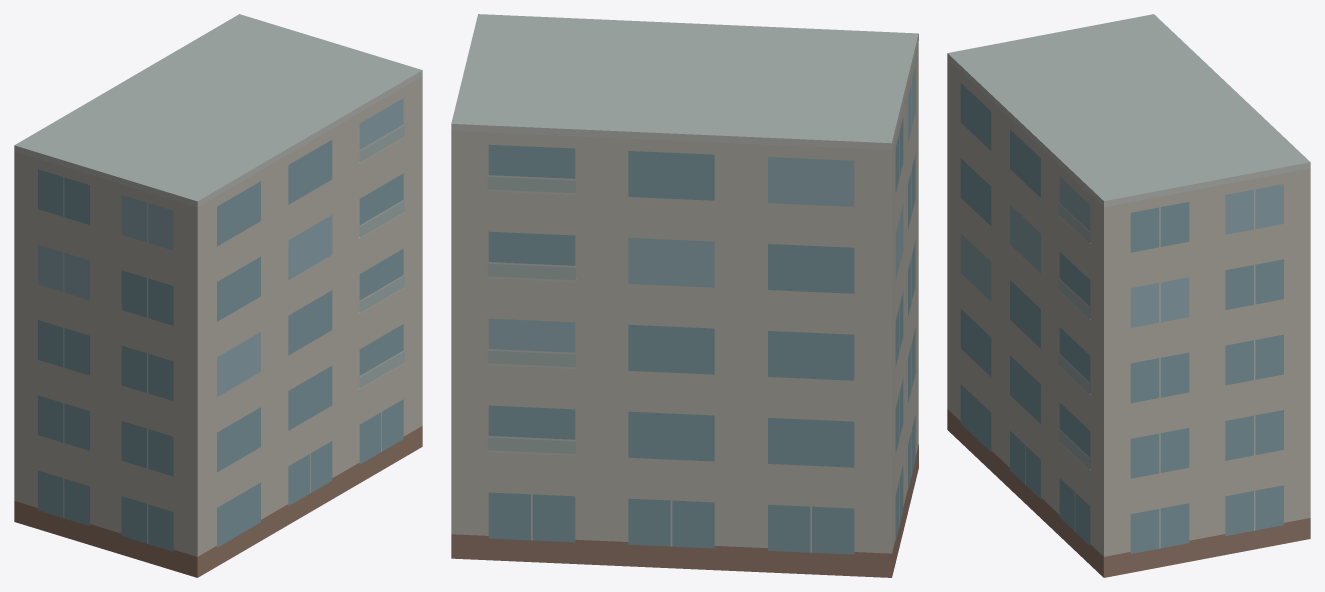
Rendered from residential-d1fae9f7-9495-41e3-9921-db0c4ef6ad68.glb.
3 renders of one model, left to right at view 1: azimuth 30°, elevation 25°; view 2: azimuth 150°, elevation 25°; view 3: azimuth 270°, elevation 25°, orthographic. The views are drawn at different scales.
Parts seen in each view (by area): view 1: residential-d1fae9f7-9495-41e3-9921-db0c4ef6ad68.tmp; view 2: residential-d1fae9f7-9495-41e3-9921-db0c4ef6ad68.tmp; view 3: residential-d1fae9f7-9495-41e3-9921-db0c4ef6ad68.tmp.
Boxes of the visible parts, x1,y1,x2,y2 form: residential-d1fae9f7-9495-41e3-9921-db0c4ef6ad68.tmp: (14,14,422,577); residential-d1fae9f7-9495-41e3-9921-db0c4ef6ad68.tmp: (451,14,918,577); residential-d1fae9f7-9495-41e3-9921-db0c4ef6ad68.tmp: (947,14,1310,577).
Bounding box in the file's own units: 16.26 × 15.25 × 13.34.
